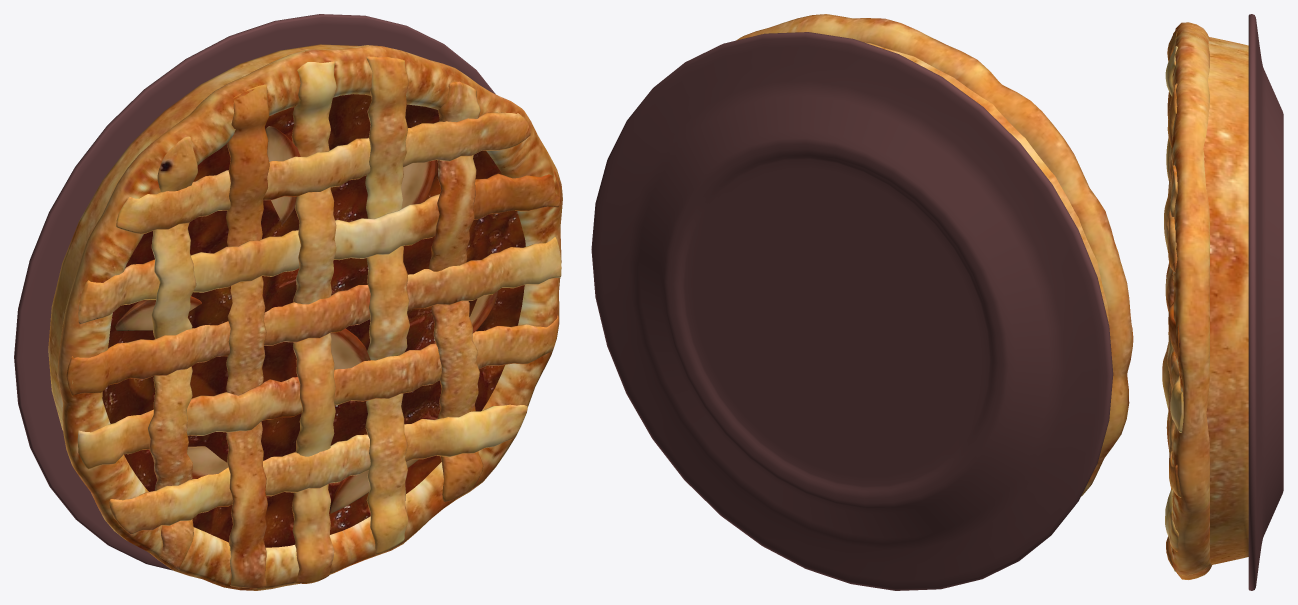
File: turta.glb
3 renders of one model, left to right at view 1: azimuth 30°, elevation 25°; view 2: azimuth 150°, elevation 25°; view 3: azimuth 270°, elevation 25°, orthographic. The views are drawn at different scales.
Visible parts, largest first — view 1: 11547_Desert_pie, 11547_Dessert_Pie_Plate; view 2: 11547_Dessert_Pie_Plate, 11547_Desert_pie; view 3: 11547_Desert_pie, 11547_Dessert_Pie_Plate.
Part boxes in pixels (box(x1,y1,x2,y2)): 11547_Desert_pie: box(48, 44, 562, 590); 11547_Dessert_Pie_Plate: box(14, 14, 495, 570); 11547_Dessert_Pie_Plate: box(591, 32, 1113, 590); 11547_Desert_pie: box(736, 14, 1133, 496); 11547_Desert_pie: box(1162, 22, 1248, 579); 11547_Dessert_Pie_Plate: box(1248, 14, 1283, 590).
Bounding box in the file's own units: 25.62 × 25.62 × 5.37.
2 materials, 1 textured.
